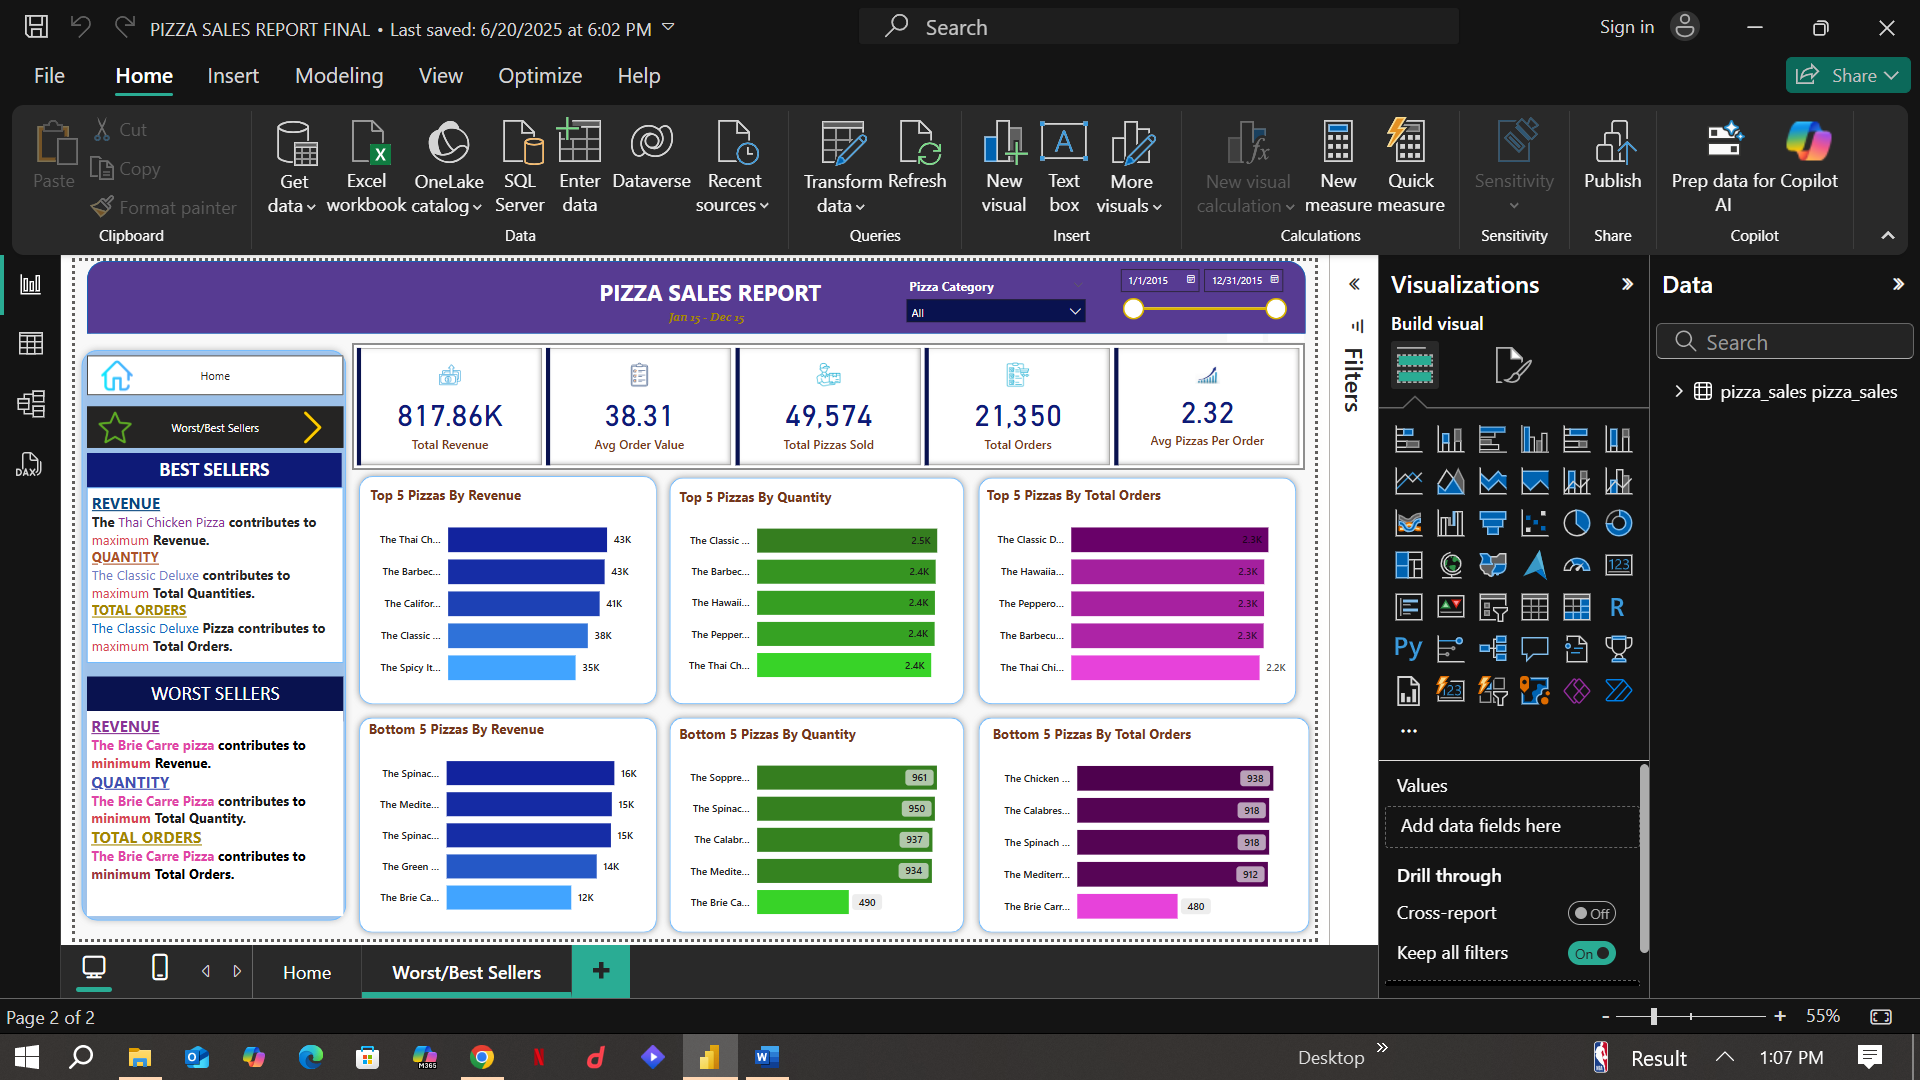

Layout of this report page (visuals, bound fields, positions):
{"tool":"powerbi","page":{"name":"Worst/Best Sellers","canvas":[1500,820],"ordinal":1},"visuals":[{"type":"shape","box":[0,100,336,706],"z":0},{"type":"image","box":[555.6,24.1,92.6,55.6],"z":1000},{"type":"cardVisual","fields":{"Data":["pizza_sales pizza_sales.Total Revenue","pizza_sales pizza_sales.Avg Order Value","pizza_sales pizza_sales.Total Pizzas Sold","pizza_sales pizza_sales.Total Orders","pizza_sales pizza_sales.Avg Pizzas Per Order"]},"box":[336,100,1152,152],"z":2000},{"type":"shape","box":[14,0,1474,88],"z":3000},{"type":"textbox","box":[540.7,14.8,455.6,53.7],"z":4000},{"type":"textbox","box":[713,51.9,125.9,35.2],"z":5000},{"type":"shape","box":[336,252,376,292],"z":6000},{"type":"textbox","box":[14,232,308,58],"z":16000},{"type":"textbox","box":[14,274,310,212],"z":17000},{"type":"textbox","box":[14,502,310,54],"z":18000},{"type":"textbox","box":[14,544,310,248],"z":19000},{"type":"slicer","fields":{"Values":["pizza_sales pizza_sales.pizza_category"]},"box":[996,14,236,74],"z":20000},{"type":"slicer","fields":{"Values":["pizza_sales pizza_sales.order_date_clean"]},"box":[1252,0,222,80],"z":21000},{"type":"shape","box":[712,254,372,290],"z":21001},{"type":"shape","box":[1084,254,400,290],"z":21002},{"type":"shape","box":[336,544,376,276],"z":21003},{"type":"shape","box":[712,544,372,276],"z":21004},{"type":"shape","box":[1084,544,416,276],"z":21005},{"type":"barChart","title":"Top 5 Pizzas By Revenue","fields":{"Category":["pizza_sales pizza_sales.pizza_name"],"Y":["pizza_sales pizza_sales.Total Revenue"]},"box":[352,272,346,256],"z":21006},{"type":"barChart","title":"Bottom 5 Pizzas By Revenue","fields":{"Category":["pizza_sales pizza_sales.pizza_name"],"Y":["pizza_sales pizza_sales.Total Revenue"]},"box":[350,556,346,250],"z":21007},{"type":"barChart","title":"Top 5 Pizzas By Quantity","fields":{"Category":["pizza_sales pizza_sales.pizza_name"],"Y":["pizza_sales pizza_sales.Total Pizzas Sold"]},"box":[726,274,346,250],"z":21008},{"type":"barChart","title":"Bottom 5 Pizzas By Quantity","fields":{"Category":["pizza_sales pizza_sales.pizza_name"],"Y":["pizza_sales pizza_sales.Total Pizzas Sold"]},"box":[726,560,346,250],"z":21009},{"type":"barChart","title":"Top 5 Pizzas By  Total Orders","fields":{"Category":["pizza_sales pizza_sales.pizza_name"],"Y":["pizza_sales pizza_sales.Total Orders"]},"box":[1098,272,376,256],"z":21010},{"type":"barChart","title":"Bottom 5 Pizzas By  Total Orders","fields":{"Category":["pizza_sales pizza_sales.pizza_name"],"Y":["pizza_sales pizza_sales.Total Orders"]},"box":[1104,560,376,256],"z":21011},{"type":"pageNavigator","box":[14,176,310,50],"z":21012},{"type":"pageNavigator","box":[14,114,310,48],"z":21013},{"type":"image","box":[252,176,70,50],"z":21014},{"type":"image","box":[14,114,72,48],"z":21015},{"type":"image","box":[14,176,68,50],"z":21016}]}

Visuals, with their boxes on the page's 1500x820 design canvas (x1, y1, x2, y2). These are canvas units, not pixel positions in the 1920x1080 screenshot, which may show the page scaled, cropped or inside an application window:
shape: 0,100,336,806
image: 556,24,648,80
cardVisual - pizza_sales pizza_sales.Total Revenue x pizza_sales pizza_sales.Avg Order Value: 336,100,1488,252
shape: 14,0,1488,88
textbox: 541,15,996,68
textbox: 713,52,839,87
shape: 336,252,712,544
textbox: 14,232,322,290
textbox: 14,274,324,486
textbox: 14,502,324,556
textbox: 14,544,324,792
slicer - pizza_sales pizza_sales.pizza_category: 996,14,1232,88
slicer - pizza_sales pizza_sales.order_date_clean: 1252,0,1474,80
shape: 712,254,1084,544
shape: 1084,254,1484,544
shape: 336,544,712,820
shape: 712,544,1084,820
shape: 1084,544,1500,820
"Top 5 Pizzas By Revenue" barChart: 352,272,698,528
"Bottom 5 Pizzas By Revenue" barChart: 350,556,696,806
"Top 5 Pizzas By Quantity" barChart: 726,274,1072,524
"Bottom 5 Pizzas By Quantity" barChart: 726,560,1072,810
"Top 5 Pizzas By  Total Orders" barChart: 1098,272,1474,528
"Bottom 5 Pizzas By  Total Orders" barChart: 1104,560,1480,816
pageNavigator: 14,176,324,226
pageNavigator: 14,114,324,162
image: 252,176,322,226
image: 14,114,86,162
image: 14,176,82,226
